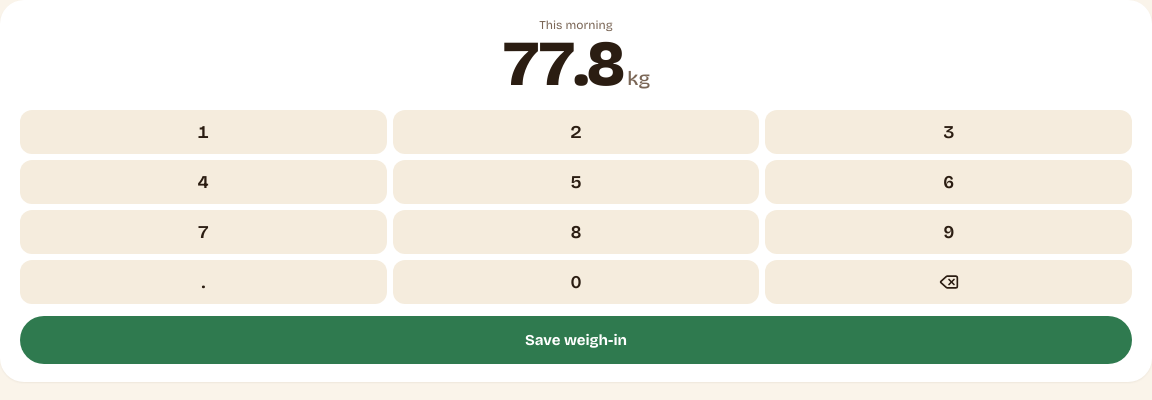
Test case: WeightEntry › edits with the pad, saves, then starts fresh on the next key
Check: the element showing "77.8 kg" is shown, box x1=502 y1=25 x2=650 y2=102
Click the button named "Backspace": (949,282) x1=765 y1=260 x2=1132 y2=304
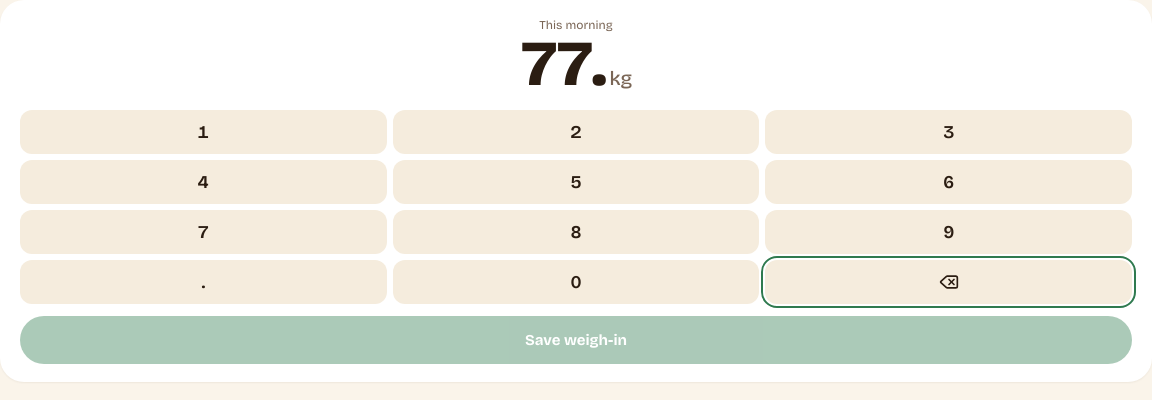
Click the button "6": (949,182) x1=765 y1=160 x2=1132 y2=204
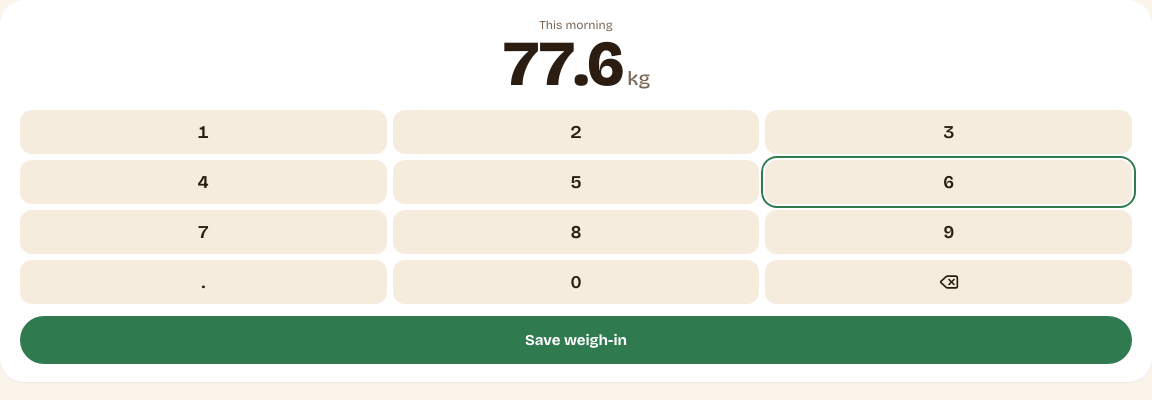
Check: the element showing "77.6 kg" is shown, box x1=502 y1=25 x2=650 y2=102
Click the button "Save weigh-in": (576,340) x1=20 y1=316 x2=1132 y2=364
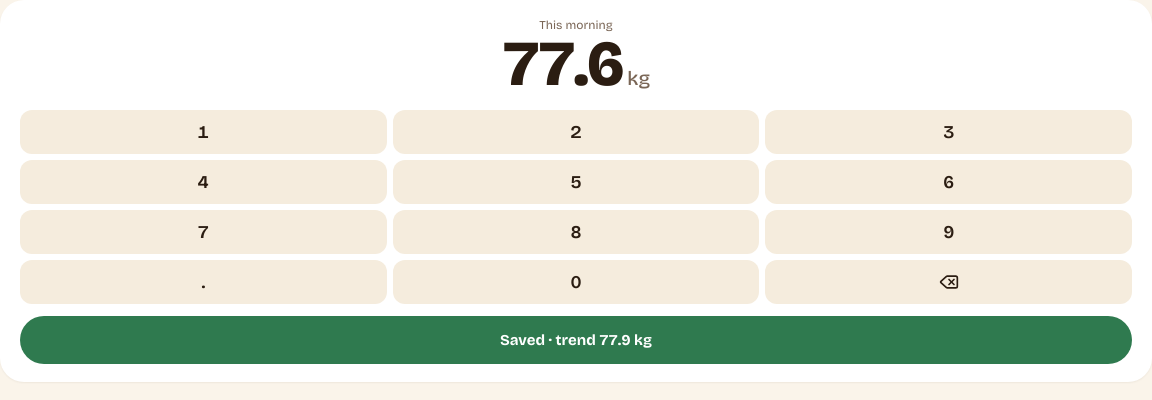
Check: the text "Saved · trend 77.9 kg" is shown, box x1=20 y1=316 x2=1132 y2=364
Check: the button "Save weigh-in" is gone
Click the button "7": (203,232) x1=20 y1=210 x2=387 y2=254
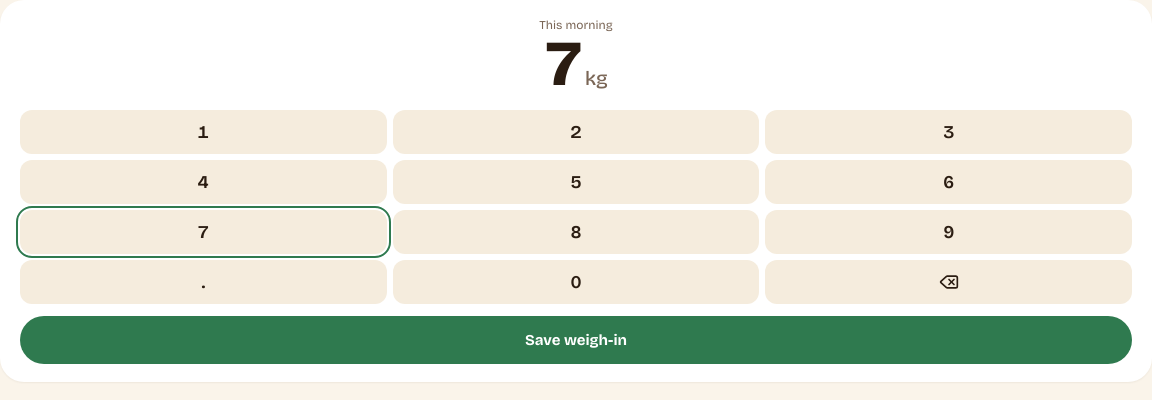
Check: the element showing "7 kg" is shown, box x1=544 y1=25 x2=608 y2=102
Check: the button "Save weigh-in" is enabled, box x1=20 y1=316 x2=1132 y2=364
